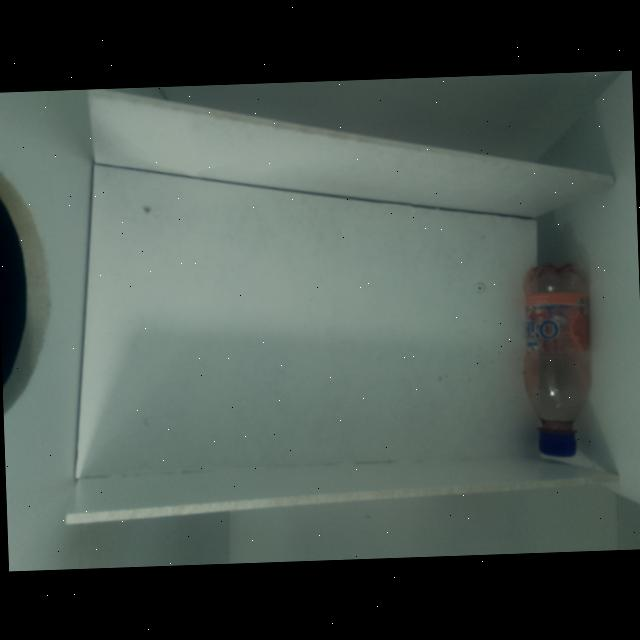trash: (518, 260, 600, 459)
